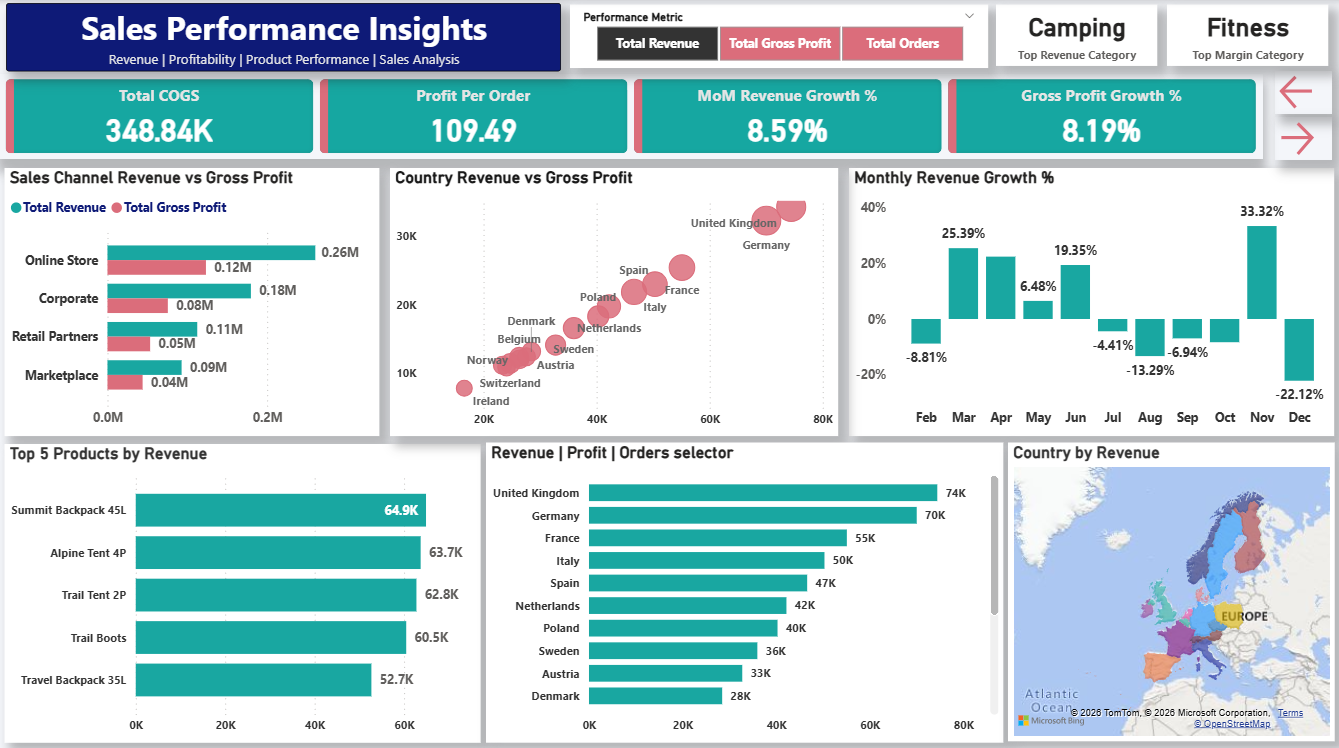

The dashboard page shown, as its layout file describes it:
{"tool":"powerbi","page":{"name":"Sales Performance Insights","canvas":[1280,720],"ordinal":1},"visuals":[{"type":"cardVisual","fields":{"Data":["All_Measures.Total COGS","All_Measures.Profit Per Order","All_Measures.MoM Revenue Growth %","All_Measures.Gross Profit Growth %"]},"box":[0,70,1205.7,81.1],"z":0},{"type":"textbox","title":"Sales Performance Insights","box":[6.4,3.2,530,65.2],"z":1000},{"type":"clusteredColumnChart","title":"Monthly Revenue Growth %","fields":{"Category":["Calendar_Table.Month"],"Y":["All_Measures.MoM Revenue Growth %"]},"box":[810.9,159.7,463.4,255.9],"z":2000},{"type":"clusteredBarChart","title":"Sales Channel Revenue vs Gross Profit","fields":{"Category":["SalesDataTable.Sales Channel"],"Y":["All_Measures.Total Revenue","All_Measures.Total Gross Profit"]},"box":[4.8,159.7,357.9,256.1],"z":3000},{"type":"clusteredBarChart","title":"Top 5 Products by Revenue","fields":{"Category":["SalesDataTable.Product"],"Y":["All_Measures.Total Revenue"]},"box":[4.8,423.8,454.9,285],"z":4000},{"type":"scatterChart","title":"Country Revenue vs Gross Profit","fields":{"X":["All_Measures.Total Revenue"],"Y":["All_Measures.Total Gross Profit"],"Category":["SalesDataTable.Country"],"Size":["All_Measures.Total Orders"]},"box":[372.8,159.7,427.9,256.1],"z":5000},{"type":"slicer","fields":{"Values":["Performance Metric.Performance Metric"]},"box":[544,4.8,399.2,60.4],"z":6000},{"type":"clusteredBarChart","title":"Revenue | Profit | Orders selector","fields":{"Y":["All_Measures.Total Revenue"],"Category":["SalesDataTable.Country"]},"box":[464.1,422.6,494.2,286.5],"z":7000},{"type":"actionButton","box":[1216.8,66.8,54.1,41.4],"z":8000},{"type":"card","fields":{"Values":["All_Measures.Top Revenue Category"]},"box":[951.2,4.8,154.3,58.9],"z":9000},{"type":"card","fields":{"Values":["All_Measures.Top Margin Category"]},"box":[1115,4.8,154.3,58.9],"z":10000},{"type":"filledMap","title":"Country by Revenue","fields":{"Category":["SalesDataTable.Country"]},"box":[962.6,422.6,312.3,285],"z":17000},{"type":"actionButton","box":[1216.8,111.3,54.1,41.4],"z":18000}]}

Visuals, with their boxes in screenshot pixels (x1, y1, x2, y2), scaled from the page's 1280x720 canvas onto the 1339x748 screenshot:
cardVisual - All_Measures.Total COGS x All_Measures.Profit Per Order: (left=0, top=73, right=1261, bottom=157)
"Sales Performance Insights" textbox: (left=7, top=3, right=561, bottom=71)
"Monthly Revenue Growth %" clusteredColumnChart: (left=848, top=166, right=1333, bottom=432)
"Sales Channel Revenue vs Gross Profit" clusteredBarChart: (left=5, top=166, right=379, bottom=432)
"Top 5 Products by Revenue" clusteredBarChart: (left=5, top=440, right=481, bottom=736)
"Country Revenue vs Gross Profit" scatterChart: (left=390, top=166, right=838, bottom=432)
slicer - Performance Metric.Performance Metric: (left=569, top=5, right=987, bottom=68)
"Revenue | Profit | Orders selector" clusteredBarChart: (left=485, top=439, right=1002, bottom=737)
actionButton: (left=1273, top=69, right=1329, bottom=112)
card - All_Measures.Top Revenue Category: (left=995, top=5, right=1156, bottom=66)
card - All_Measures.Top Margin Category: (left=1166, top=5, right=1328, bottom=66)
"Country by Revenue" filledMap: (left=1007, top=439, right=1334, bottom=735)
actionButton: (left=1273, top=116, right=1329, bottom=159)
